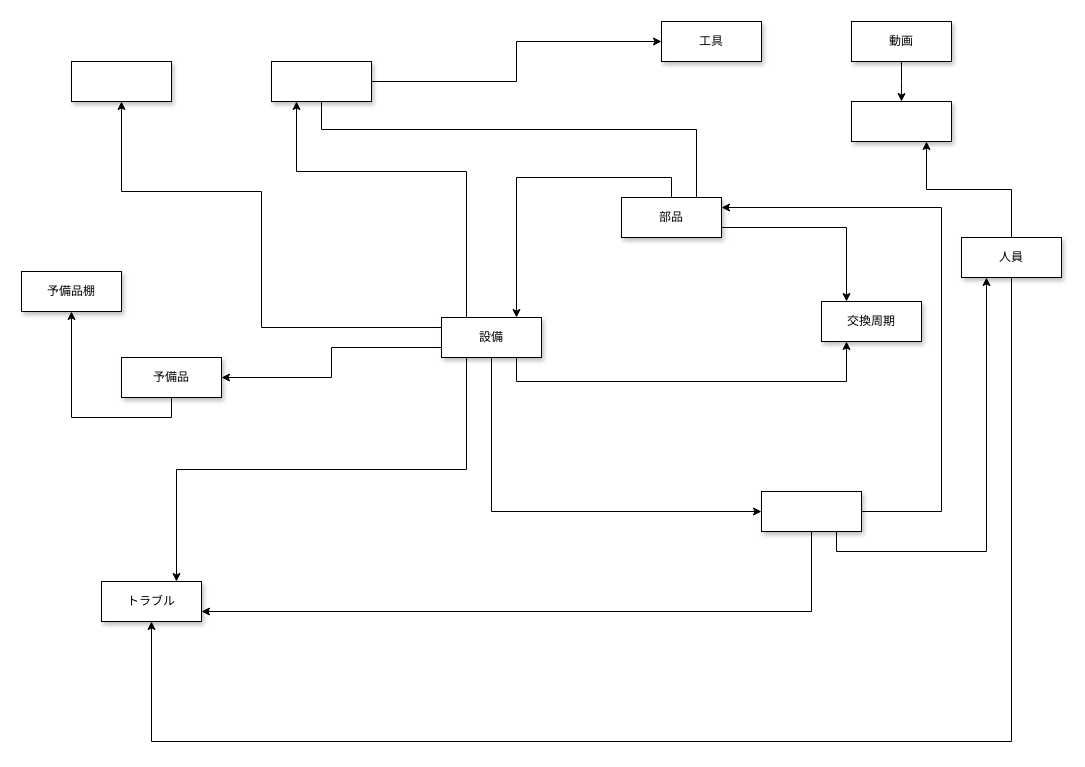
Image size: 1085x767. Some labels were removed from this diagram. The centre of each missing label's shape, as x and y in pixels:
マニュアル: the point at 902,122
交換履歴: the point at 812,512
図面: the point at 122,82
診断履歴: the point at 322,82
